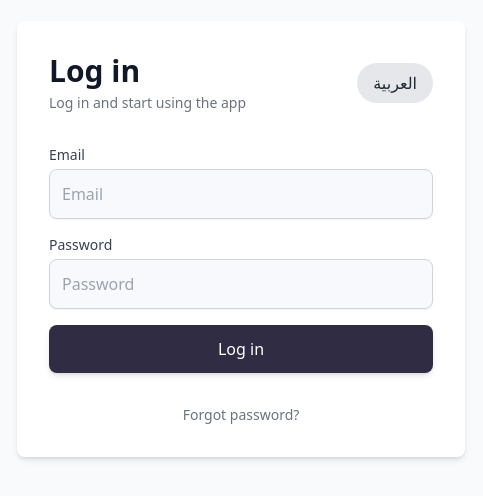
Login Page › shows server error on invalid credentials
The image size is (483, 496).
Fill in credentials
In the field named "email": (241, 194) 49,169 -> 433,219, type "mohammed@g.com"
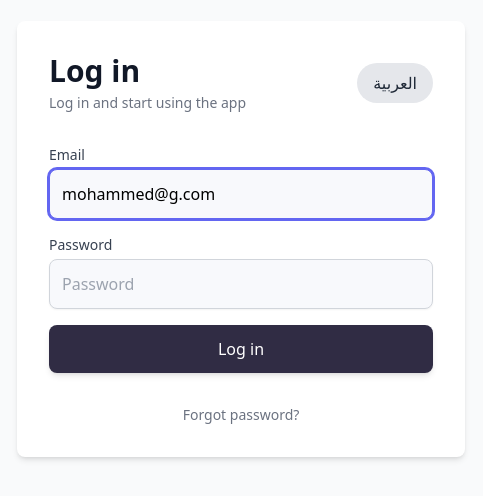
In the password field named "password": (241, 284) 49,259 -> 433,309, type "!Password1"
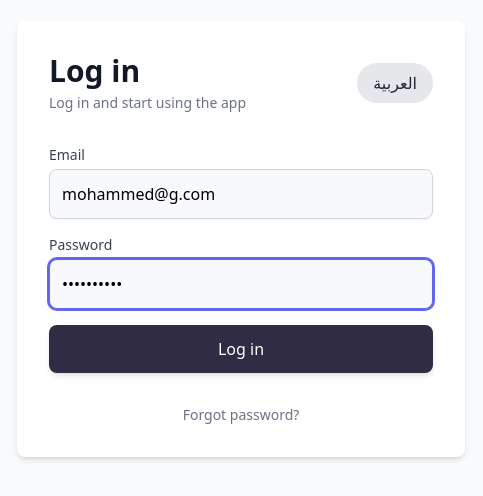
Click the submit button: (241, 349) 49,325 -> 433,373
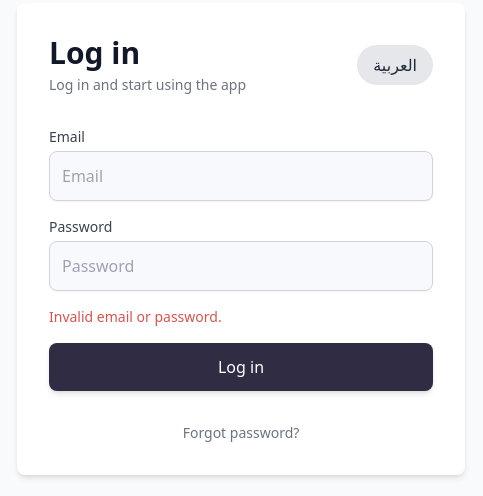
Expected: the text "Invalid email or password." is shown, 49,307 -> 222,326
